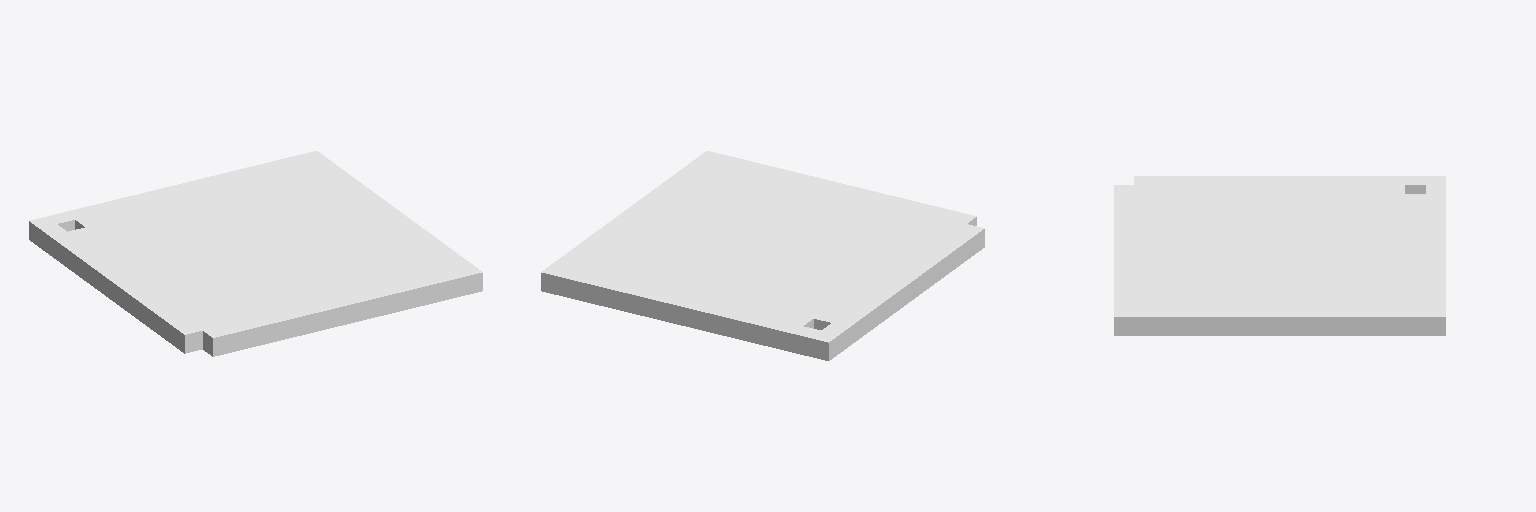
File: disquette.obj
3 renders of one model, left to right at view 1: azimuth 30°, elevation 25°; view 2: azimuth 150°, elevation 25°; view 3: azimuth 270°, elevation 25°, orthographic.
Parts seen in each view (by area): view 1: object 1; view 2: object 1; view 3: object 1.
Boxes of the visible parts, x1,y1,x2,y2 form: object 1: [29, 151, 482, 356]; object 1: [541, 151, 984, 360]; object 1: [1114, 176, 1445, 335].
Size of the model in its own units: 1.6 by 0.1 by 1.6.